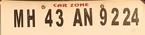2: (109, 7, 121, 26), (121, 7, 131, 26)
3: (56, 9, 64, 28)
4: (43, 8, 55, 29), (132, 7, 140, 27)
9: (99, 6, 108, 27)
A: (71, 7, 83, 27)
H: (24, 8, 39, 28)
M: (12, 8, 27, 28)
N: (83, 6, 95, 27)
